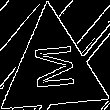M_W: (28, 44, 77, 96)
